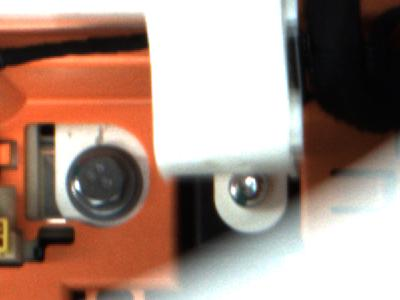nut_b: (58, 139, 141, 214)
